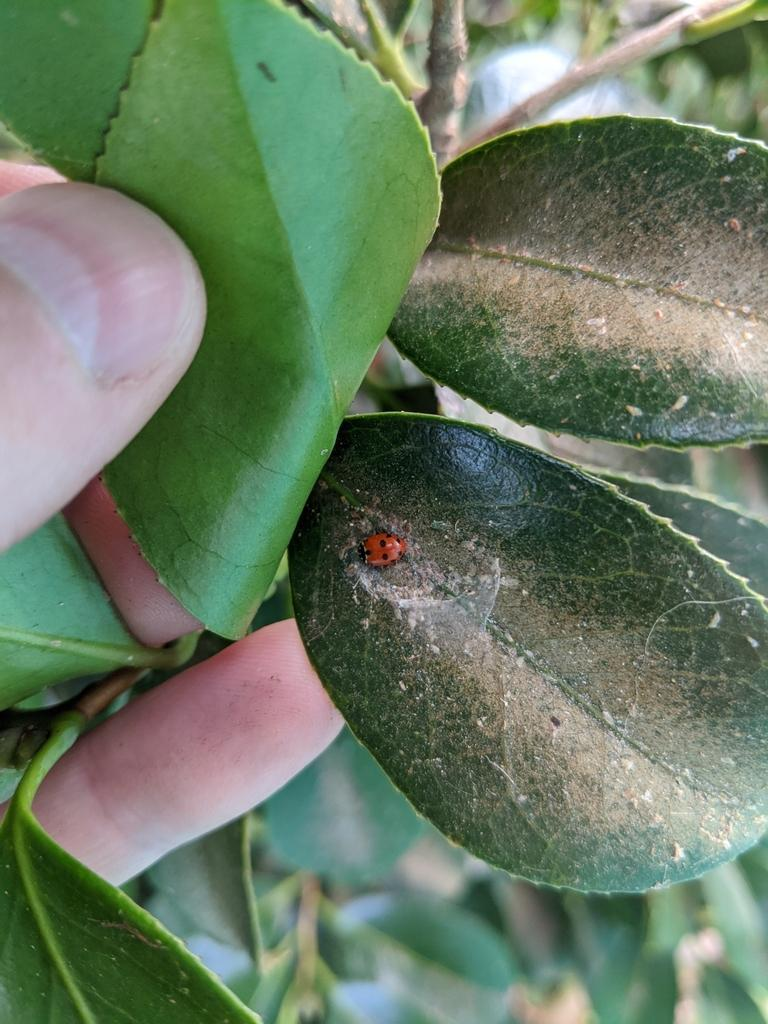ladybug: (356, 531, 411, 573)
